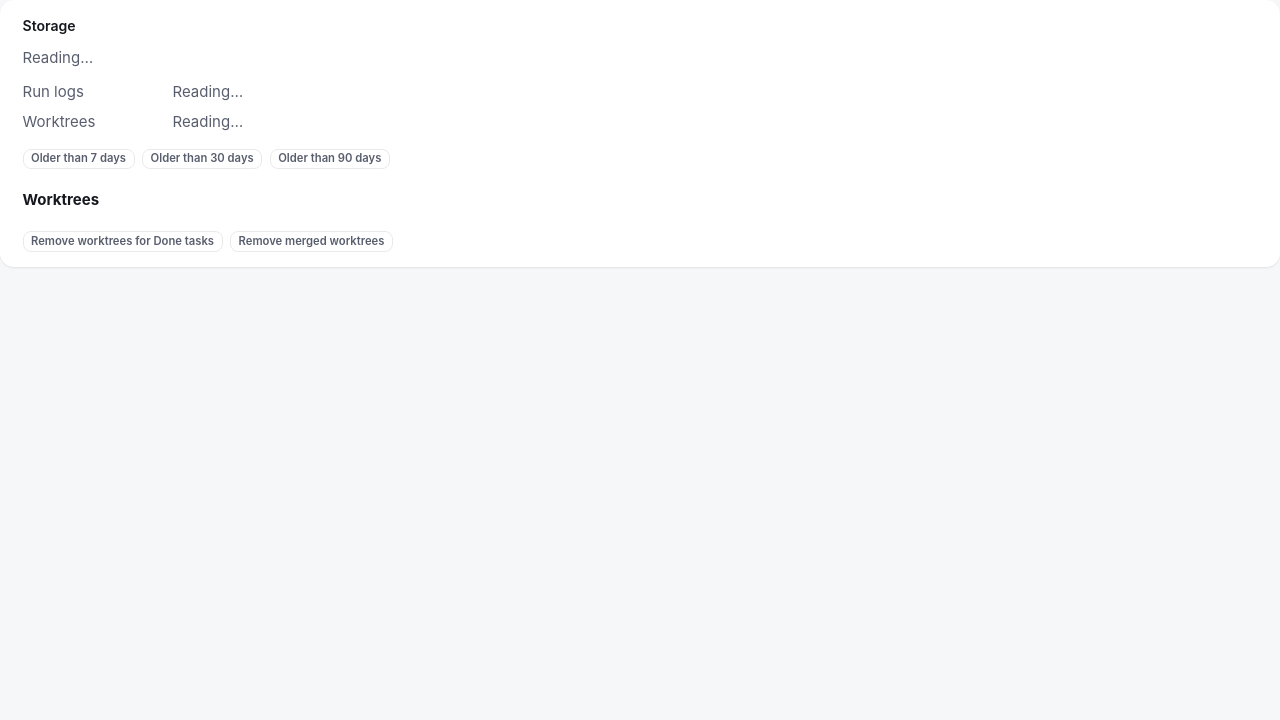
Test: StorageSection › reports what a bulk cleanup refused, not only what it removed
Click the button "Remove worktrees for Done tasks" at point(122, 242), box [22,231,222,252]
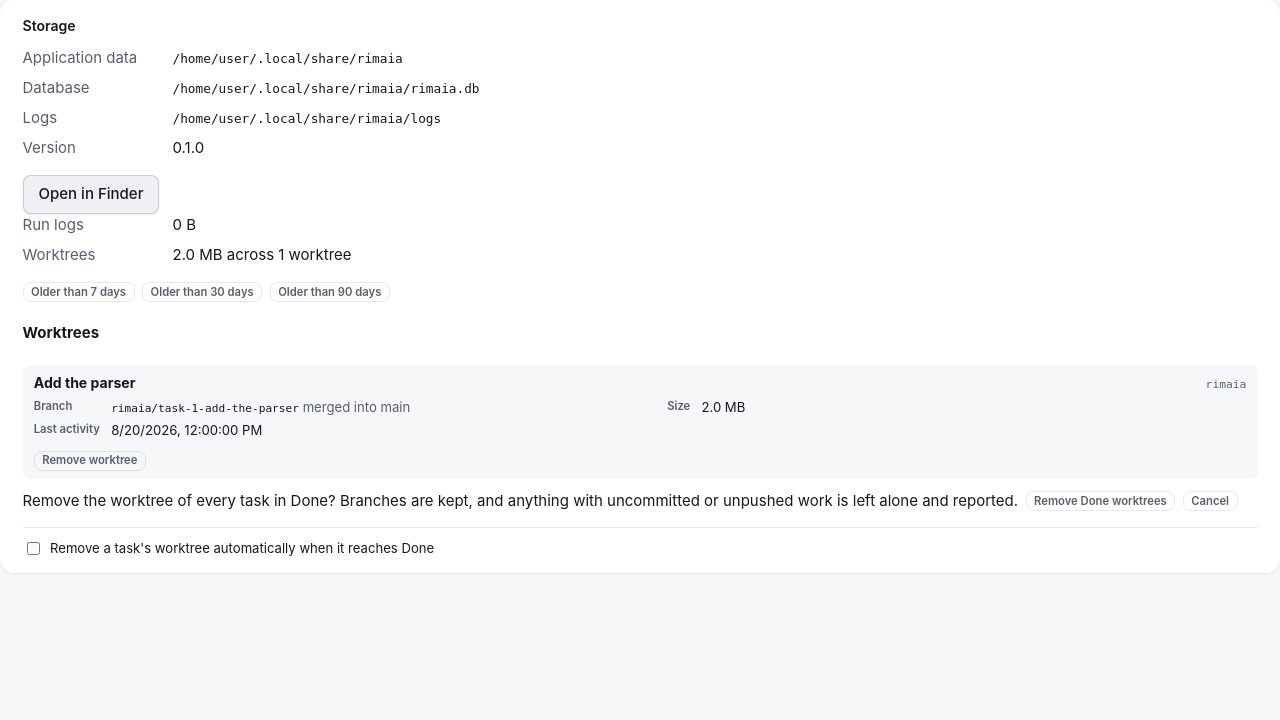
Click the button "Remove Done worktrees" at point(1100, 501), box [1026,491,1175,511]
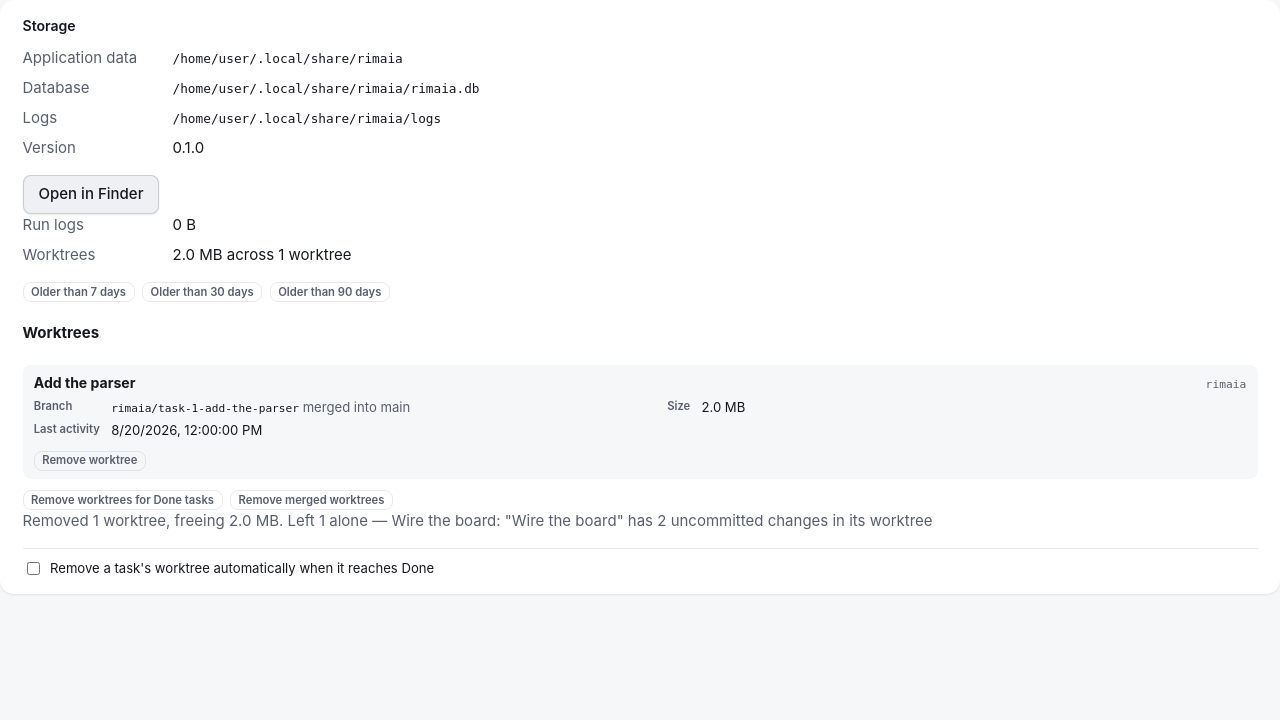
Expected: the text "Removed 1 worktree, freeing 2.0 MB." shows "Left 1 alone", [22,511,933,530]
Expected: the text "Removed 1 worktree, freeing 2.0 MB." shows "Wire the board: \"Wire the board\" has 2 uncommitted changes", [22,511,933,530]
